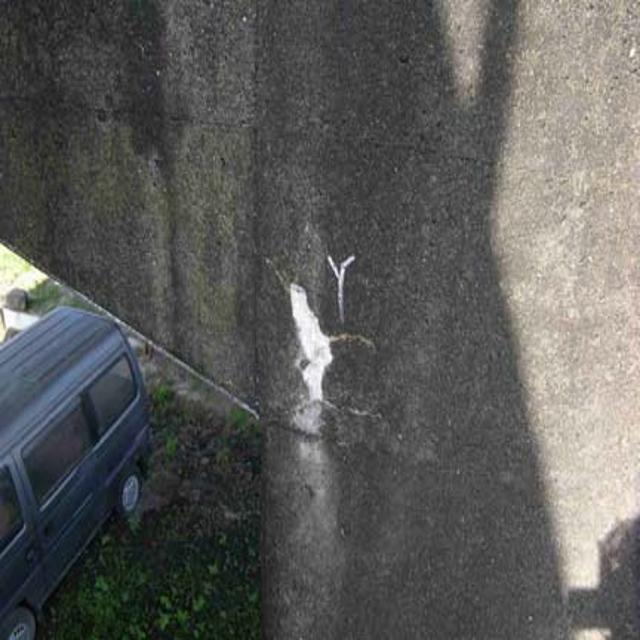freelime: (273, 268, 344, 426)
